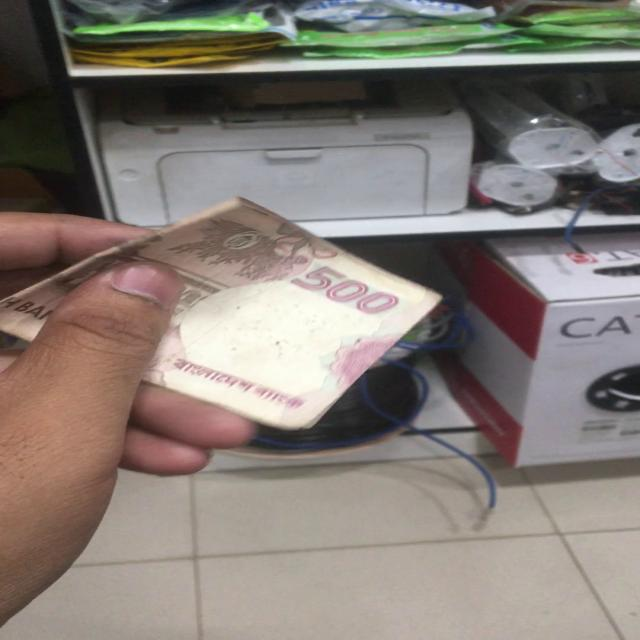Taka: (19, 205, 437, 413)
